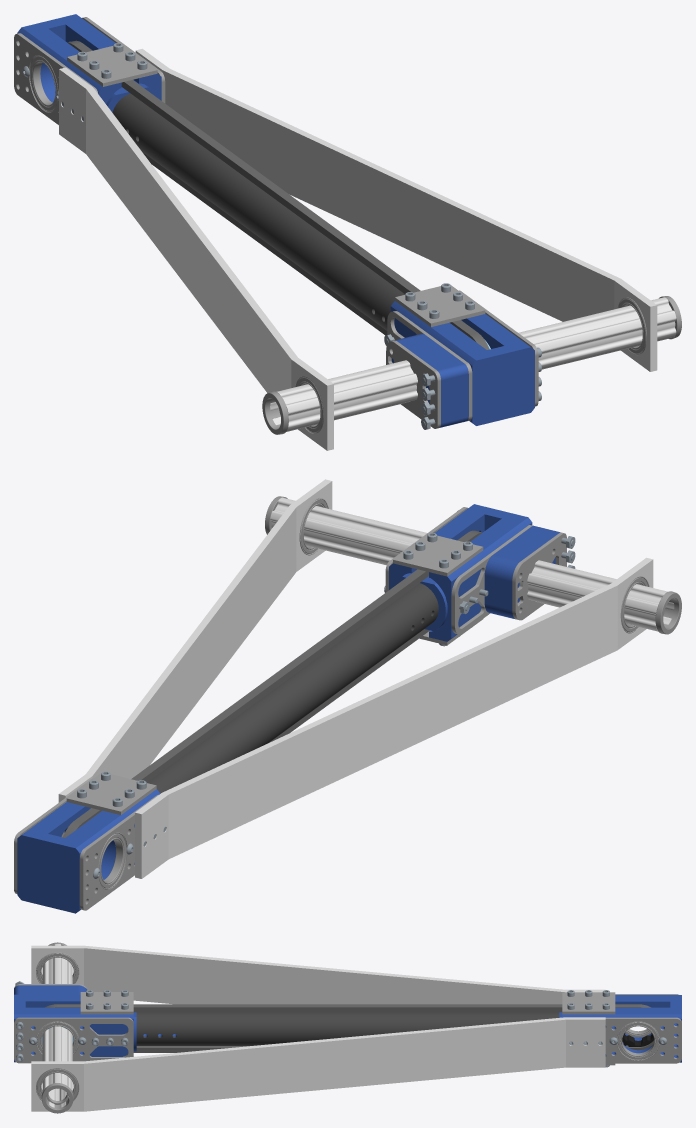
3 views of the same model, one above another, from view 1: azimuth 30°, elevation 25°; view 2: azimuth 150°, elevation 25°; view 3: azimuth 270°, elevation 25° (orthographic). The views are drawn at different scales.
Parts seen in each view (by area): view 1: 930-2023-ARM3-0311 (×2), 930-2023-ARM3-0301, MAXSpline Shaft - 47in (REV-21-2520) (×2), 930-2023-ARM3-0303, 222 links #25 chain, 930-2023-ARM3-0310 (×2), 930-2023-ARM3-0308, 930-2023-ARM3-0306, 930-2023-ARM3-0309, 930-2023-ARM3-0307, 930-2023-ARM3-0305, REV-21-2385; view 2: 930-2023-ARM3-0311 (×2), 930-2023-ARM3-0301, MAXSpline Shaft - 47in (REV-21-2520) (×2), 930-2023-ARM3-0308, 222 links #25 chain, 930-2023-ARM3-0303, 930-2023-ARM3-0310 (×2), 930-2023-ARM3-0306, 930-2023-ARM3-0309, 930-2023-ARM3-0307, 930-2023-ARM3-0305, REV-21-2385 (+1 smaller); view 3: 930-2023-ARM3-0311 (×2), 930-2023-ARM3-0301, 930-2023-ARM3-0309 (×2), 222 links #25 chain, 930-2023-ARM3-0303, MAXSpline Shaft - 47in (REV-21-2520) (×2), 930-2023-ARM3-0310 (×2), 930-2023-ARM3-0308, 4668K269_Permanently Lubricated Stainless Steel Ball Bearing (×4), 930-2023-ARM3-0306, REV-21-2385, #25 Hub Sprocket - MAXSpline - 24T - Single (REV-21-2015).
Boxes of the visible parts, left/top/right/bottom form: 930-2023-ARM3-0311 (×2): left=59, top=48, right=657, bottom=450; 930-2023-ARM3-0301: left=112, top=93, right=404, bottom=330; MAXSpline Shaft - 47in (REV-21-2520) (×2): left=270, top=297, right=676, bottom=431; 930-2023-ARM3-0303: left=390, top=301, right=534, bottom=425; 222 links #25 chain: left=68, top=40, right=489, bottom=349; 930-2023-ARM3-0310 (×2): left=67, top=45, right=485, bottom=326; 930-2023-ARM3-0308: left=17, top=14, right=161, bottom=103; 930-2023-ARM3-0306: left=391, top=333, right=468, bottom=427; 930-2023-ARM3-0309: left=14, top=33, right=98, bottom=124; 930-2023-ARM3-0307: left=386, top=340, right=440, bottom=428; 930-2023-ARM3-0305: left=387, top=311, right=472, bottom=420; REV-21-2385: left=262, top=391, right=288, bottom=434; 930-2023-ARM3-0311 (×2): left=58, top=479, right=653, bottom=878; 930-2023-ARM3-0301: left=147, top=583, right=438, bottom=793; MAXSpline Shaft - 47in (REV-21-2520) (×2): left=270, top=497, right=674, bottom=631; 930-2023-ARM3-0308: left=17, top=789, right=160, bottom=913; 222 links #25 chain: left=63, top=530, right=482, bottom=837; 930-2023-ARM3-0303: left=389, top=504, right=532, bottom=641; 930-2023-ARM3-0310 (×2): left=66, top=535, right=483, bottom=814; 930-2023-ARM3-0306: left=484, top=525, right=560, bottom=619; 930-2023-ARM3-0309: left=79, top=794, right=158, bottom=910; 930-2023-ARM3-0307: left=512, top=532, right=566, bottom=620; 930-2023-ARM3-0305: left=451, top=525, right=532, bottom=634; REV-21-2385: left=655, top=591, right=681, bottom=634; 930-2023-ARM3-0311 (×2): left=31, top=945, right=605, bottom=1111; 930-2023-ARM3-0301: left=136, top=1012, right=559, bottom=1045; 930-2023-ARM3-0309 (×2): left=14, top=1017, right=681, bottom=1063; 222 links #25 chain: left=45, top=1004, right=654, bottom=1052; 930-2023-ARM3-0303: left=14, top=994, right=133, bottom=1062; MAXSpline Shaft - 47in (REV-21-2520) (×2): left=42, top=944, right=72, bottom=1107; 930-2023-ARM3-0310 (×2): left=80, top=992, right=615, bottom=1014; 930-2023-ARM3-0308: left=562, top=995, right=681, bottom=1062; 4668K269_Permanently Lubricated Stainless Steel Ball Bearing (×4): left=37, top=953, right=658, bottom=1099; 930-2023-ARM3-0306: left=14, top=985, right=87, bottom=994; REV-21-2385: left=41, top=1083, right=73, bottom=1113; #25 Hub Sprocket - MAXSpline - 24T - Single (REV-21-2015): left=622, top=1033, right=654, bottom=1046.
Bounding box in the file's own units: 0.3651 × 0.0735 × 0.7223.
